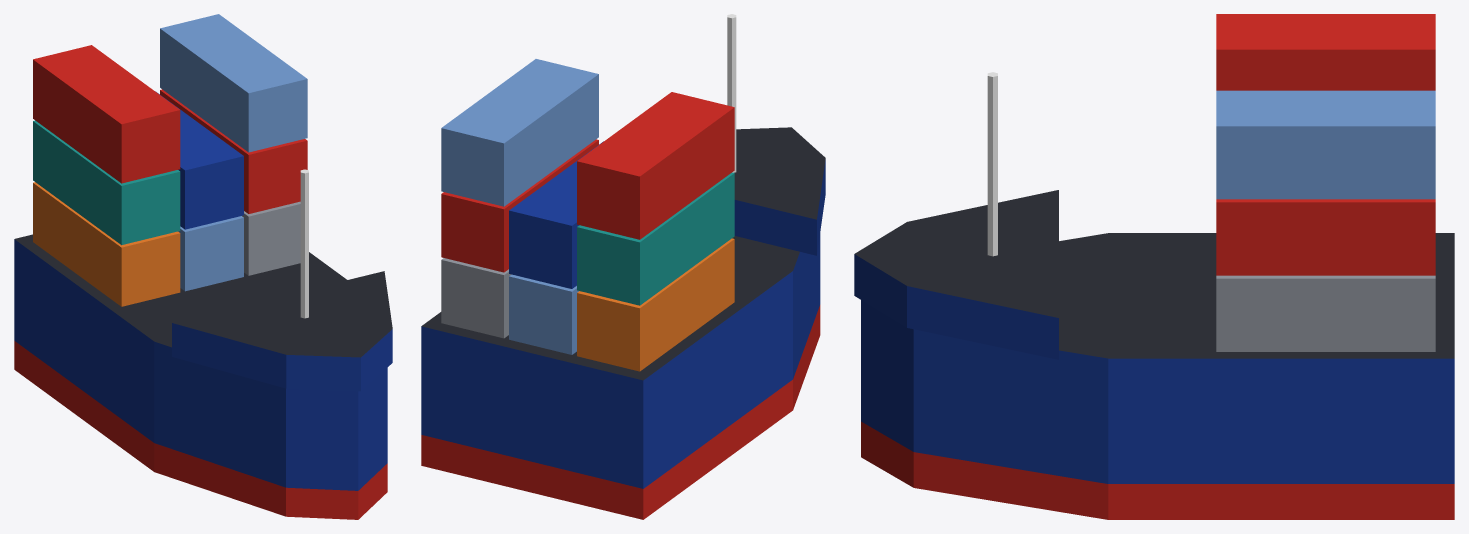
Rendered from buque_proa.obj.
The picture shows the model from 3 angles, left to right: view 1: azimuth 30°, elevation 25°; view 2: azimuth 150°, elevation 25°; view 3: azimuth 270°, elevation 25°; orthographic projection. The views are drawn at different scales.
Parts seen in each view (by area): view 1: buque_proa; view 2: buque_proa; view 3: buque_proa.
Boxes of the visible parts, <box> form: buque_proa: <box>14,14,392,519</box>; buque_proa: <box>421,14,825,519</box>; buque_proa: <box>854,14,1454,519</box>.
Size of the model in its own units: 9.2 by 12.95 by 18.2.
